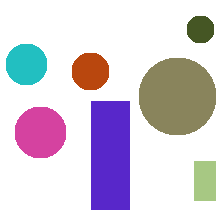circle: (139, 58, 215, 134), (15, 107, 65, 157), (6, 44, 46, 84), (72, 53, 108, 89), (187, 16, 213, 42)
rectangle: (91, 101, 129, 209), (194, 161, 215, 200)
